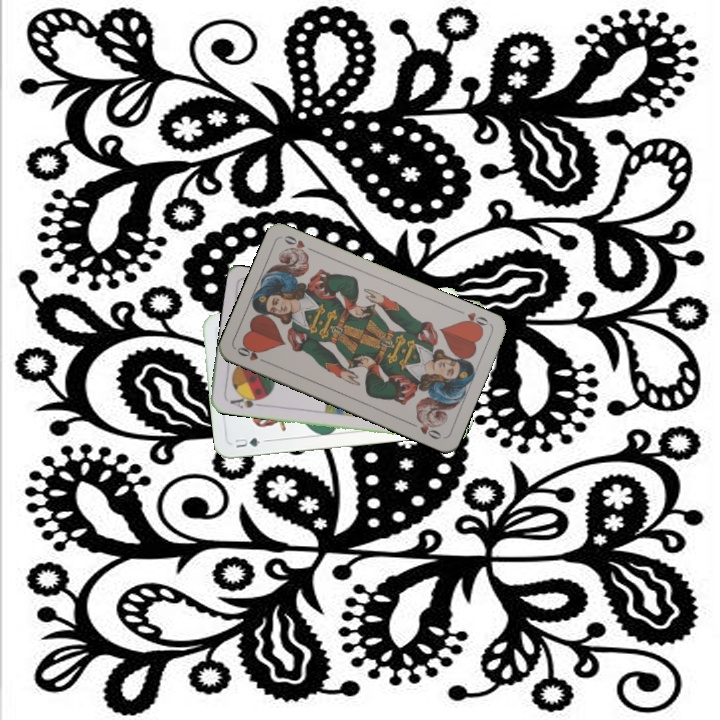GU: (230, 433, 263, 450)
HO: (233, 342, 271, 366), (457, 308, 493, 333)
SA: (226, 391, 265, 411)
